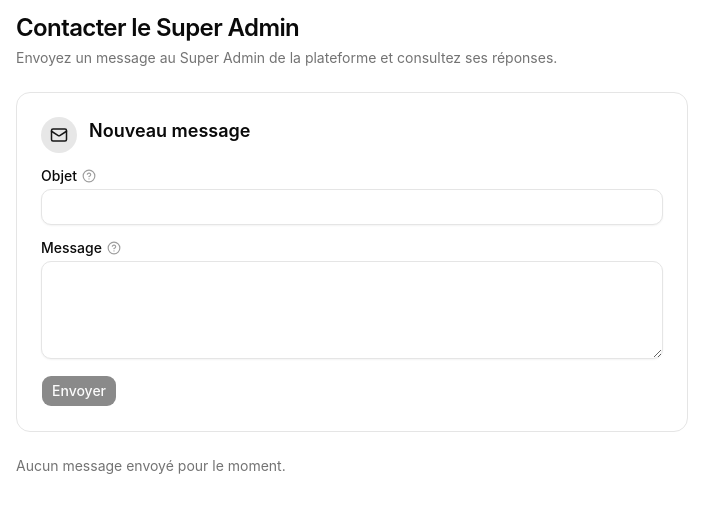
Test case: SupportPageContent › shows an error message when sending fails
Expected: the text "Aucun message envoyé pour le moment." is shown, [16,457,286,474]
Type "Objet" into the field labelled "Objet" at {"x": 352, "y": 207}, box [41,189,663,225]
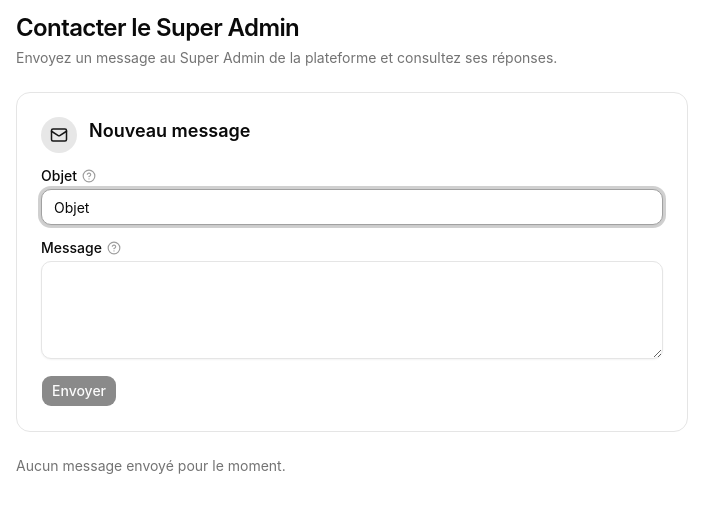
Type "Corps" into the text box labelled "Message" at {"x": 352, "y": 310}, box [41,261,663,359]
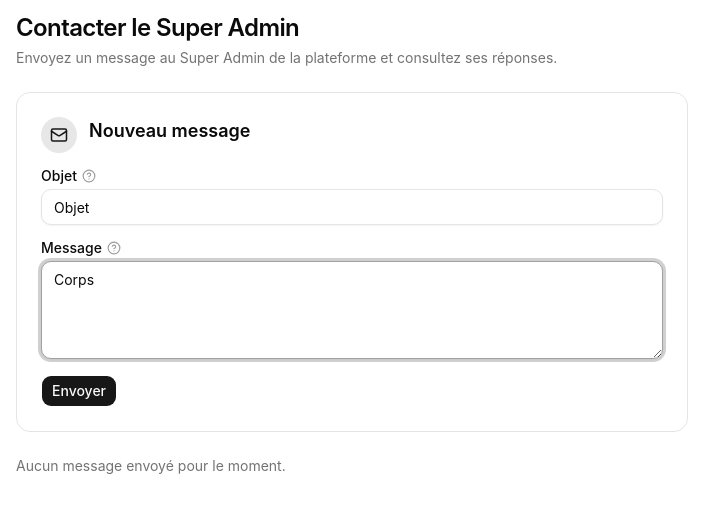
Click the button "Envoyer" at {"x": 79, "y": 391}, box [41,375,117,407]
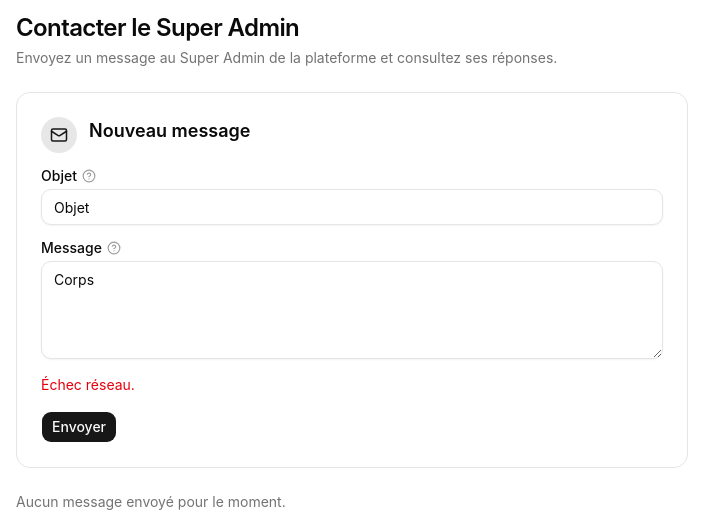
Result: the text "Échec réseau." is shown at [41,376,135,393]
